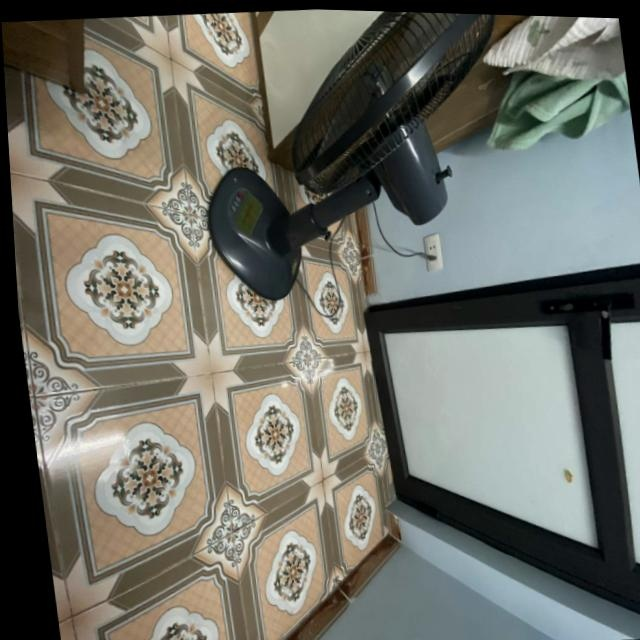outlet: (421, 232, 443, 273)
